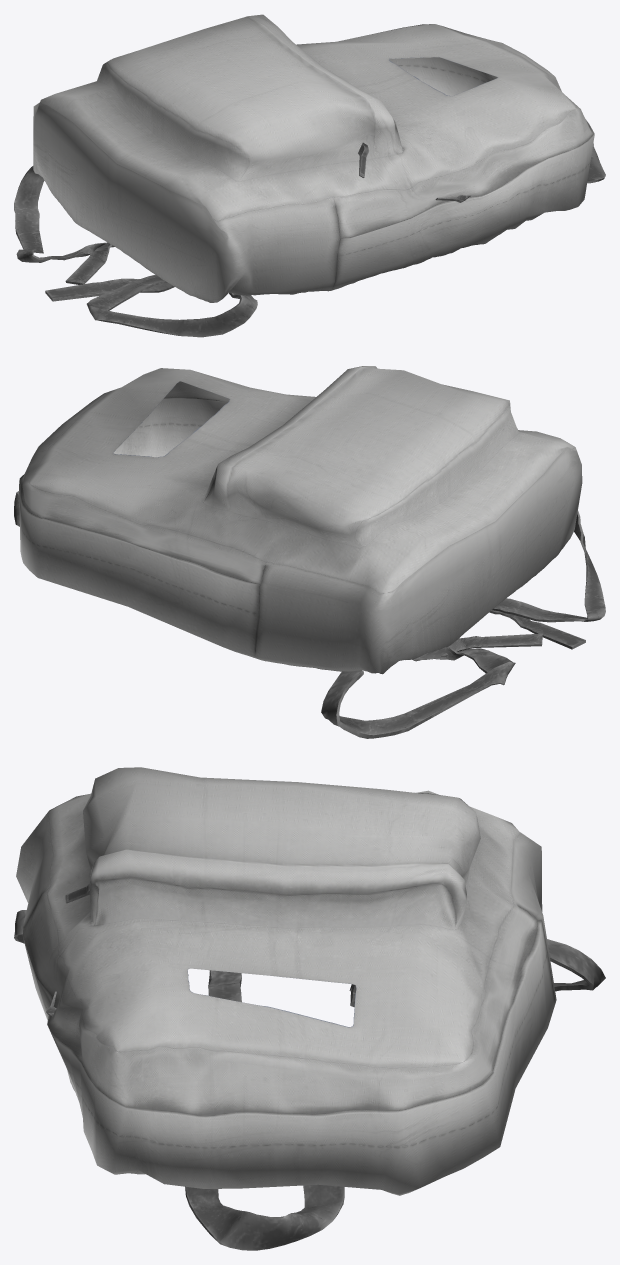
The model's file is SM_School_Backpack_01b.fbx.
3 renders of one model, top to bottom at view 1: azimuth 30°, elevation 25°; view 2: azimuth 150°, elevation 25°; view 3: azimuth 270°, elevation 25°, orthographic. The views are drawn at different scales.
Parts seen in each view (by area): view 1: SM_School_Backpack_01b_LOD0; view 2: SM_School_Backpack_01b_LOD0; view 3: SM_School_Backpack_01b_LOD0.
Part boxes in pixels (x1,y1,x2,y2): SM_School_Backpack_01b_LOD0: (14,14,605,337); SM_School_Backpack_01b_LOD0: (14,366,605,738); SM_School_Backpack_01b_LOD0: (14,767,605,1250).
Bounding box in the file's own units: 63.97 × 46.27 × 22.86.
Materials: 1 (1 with a texture image).
